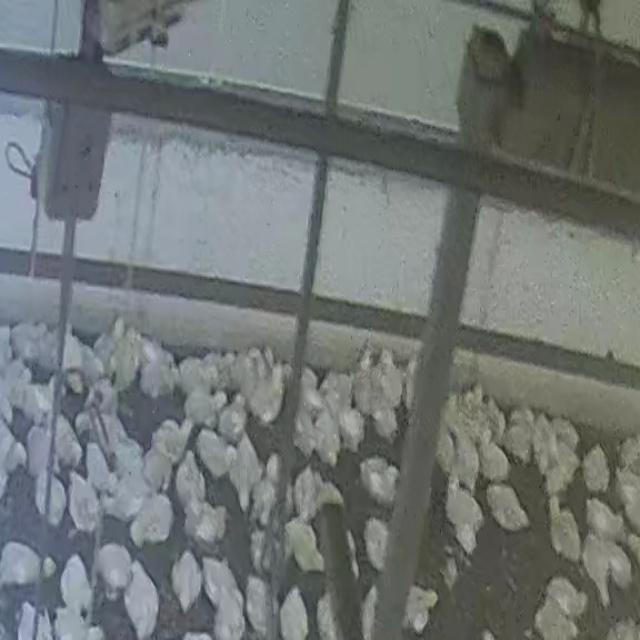chicken: (200, 554, 247, 633), (580, 533, 628, 605), (448, 388, 498, 453), (122, 559, 160, 637), (443, 482, 486, 550), (244, 360, 287, 426), (130, 489, 177, 547), (92, 540, 136, 600), (485, 480, 531, 537), (181, 493, 225, 552), (92, 406, 134, 466), (230, 432, 263, 507), (108, 468, 153, 522), (283, 518, 327, 573), (60, 552, 96, 618), (532, 591, 580, 640), (358, 455, 400, 509), (0, 540, 45, 590), (150, 418, 191, 472), (547, 494, 581, 558), (170, 548, 204, 612), (175, 354, 219, 402), (68, 470, 102, 532), (243, 573, 275, 638), (173, 452, 206, 514), (139, 437, 176, 492), (248, 516, 283, 574), (476, 427, 512, 483), (194, 427, 233, 477), (402, 583, 440, 634), (108, 329, 139, 391), (182, 384, 223, 430), (137, 351, 176, 399), (278, 585, 312, 640), (375, 353, 406, 413), (291, 464, 323, 522), (448, 433, 481, 488), (111, 437, 148, 486), (34, 473, 68, 526), (9, 320, 48, 366), (52, 412, 84, 467), (84, 441, 116, 496), (550, 429, 582, 483), (584, 495, 622, 540), (292, 412, 326, 462), (362, 514, 392, 570), (84, 374, 120, 420), (550, 576, 590, 617), (530, 413, 559, 469), (249, 475, 279, 529), (17, 378, 52, 424), (26, 422, 54, 479), (2, 358, 32, 411), (542, 453, 574, 501), (337, 401, 367, 452), (581, 444, 611, 494), (314, 417, 342, 468), (228, 349, 257, 397), (60, 332, 90, 377), (78, 340, 107, 386), (315, 590, 342, 639), (216, 400, 246, 444), (92, 324, 120, 371), (504, 420, 536, 461), (353, 368, 378, 417), (137, 336, 171, 372), (440, 391, 464, 441), (371, 405, 400, 445), (300, 378, 328, 419), (359, 583, 379, 636), (314, 482, 346, 514), (16, 600, 42, 639), (616, 477, 640, 519), (436, 426, 457, 472), (616, 435, 640, 473), (0, 324, 18, 373), (3, 438, 28, 473), (613, 614, 640, 638), (64, 368, 84, 396), (110, 315, 126, 342), (630, 531, 640, 570)
